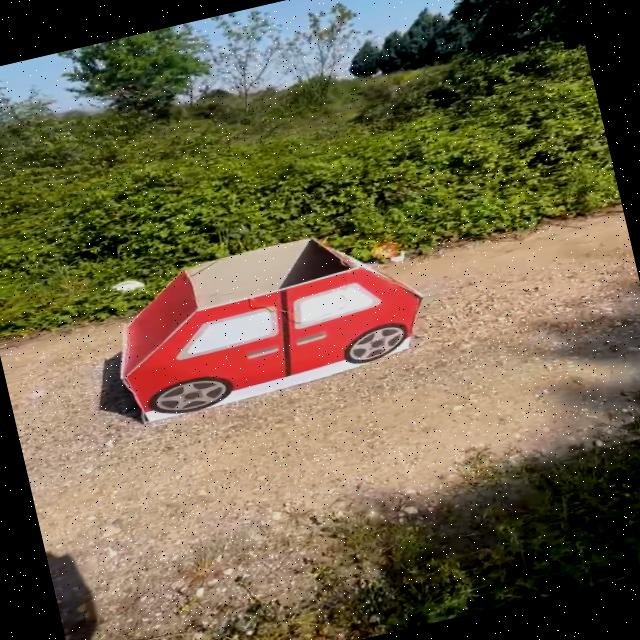red_car: (51, 204, 445, 461)
